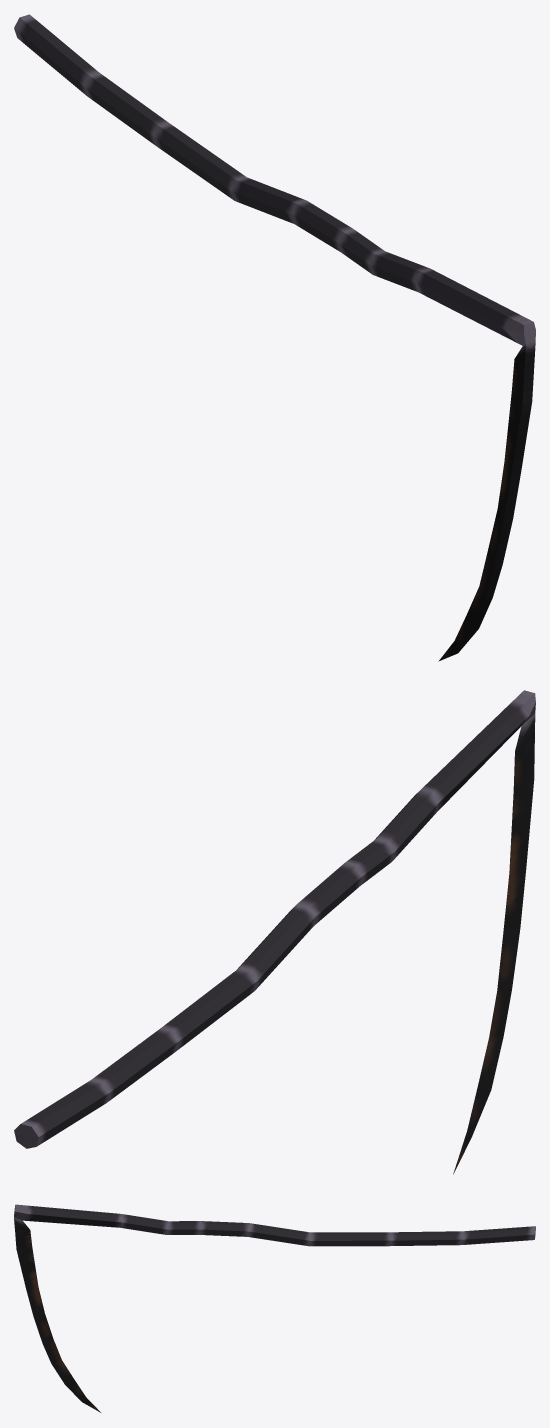
Rendered from scythe.fbx.
The picture shows the model from 3 angles, top to bottom: view 1: azimuth 30°, elevation 25°; view 2: azimuth 150°, elevation 25°; view 3: azimuth 270°, elevation 25°; orthographic projection. The views are drawn at different scales.
Parts seen in each view (by area): view 1: Scythe; view 2: Scythe; view 3: Scythe.
Boxes of the visible parts, x1,y1,x2,y2 form: Scythe: [14, 14, 535, 661]; Scythe: [14, 690, 535, 1174]; Scythe: [14, 1204, 535, 1412].
Bounding box in the file's own units: 10.3 × 238 × 106.
Materials: 1 (1 with a texture image).
